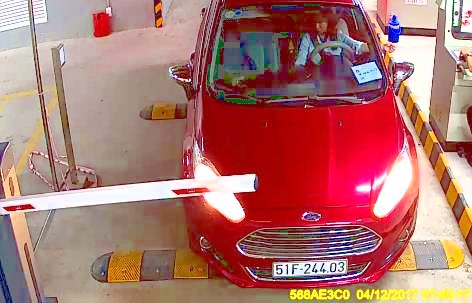plate: (271, 256, 349, 278)
